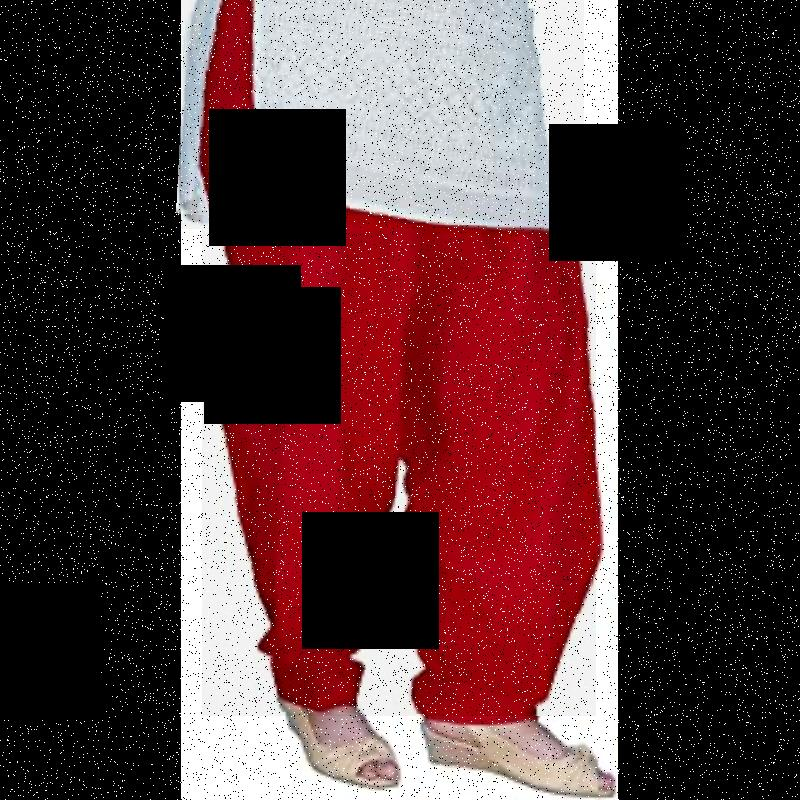Kurta: (179, 0, 584, 229)
Pant: (202, 222, 596, 716)
